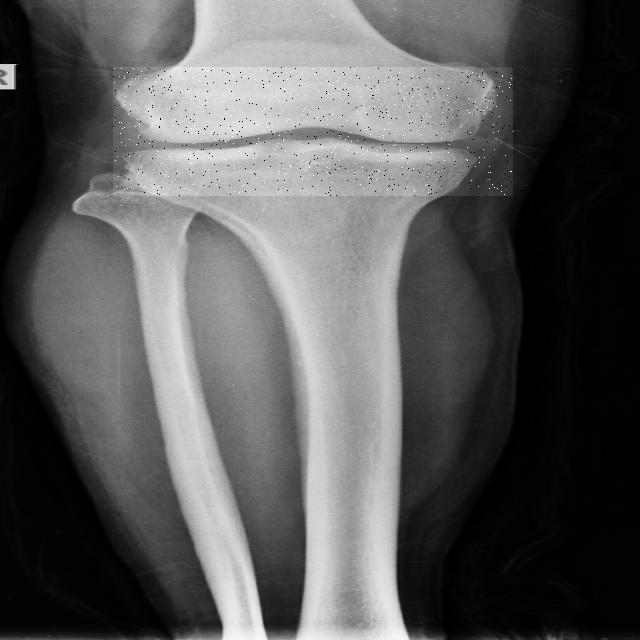normal: (113, 67, 513, 196)
